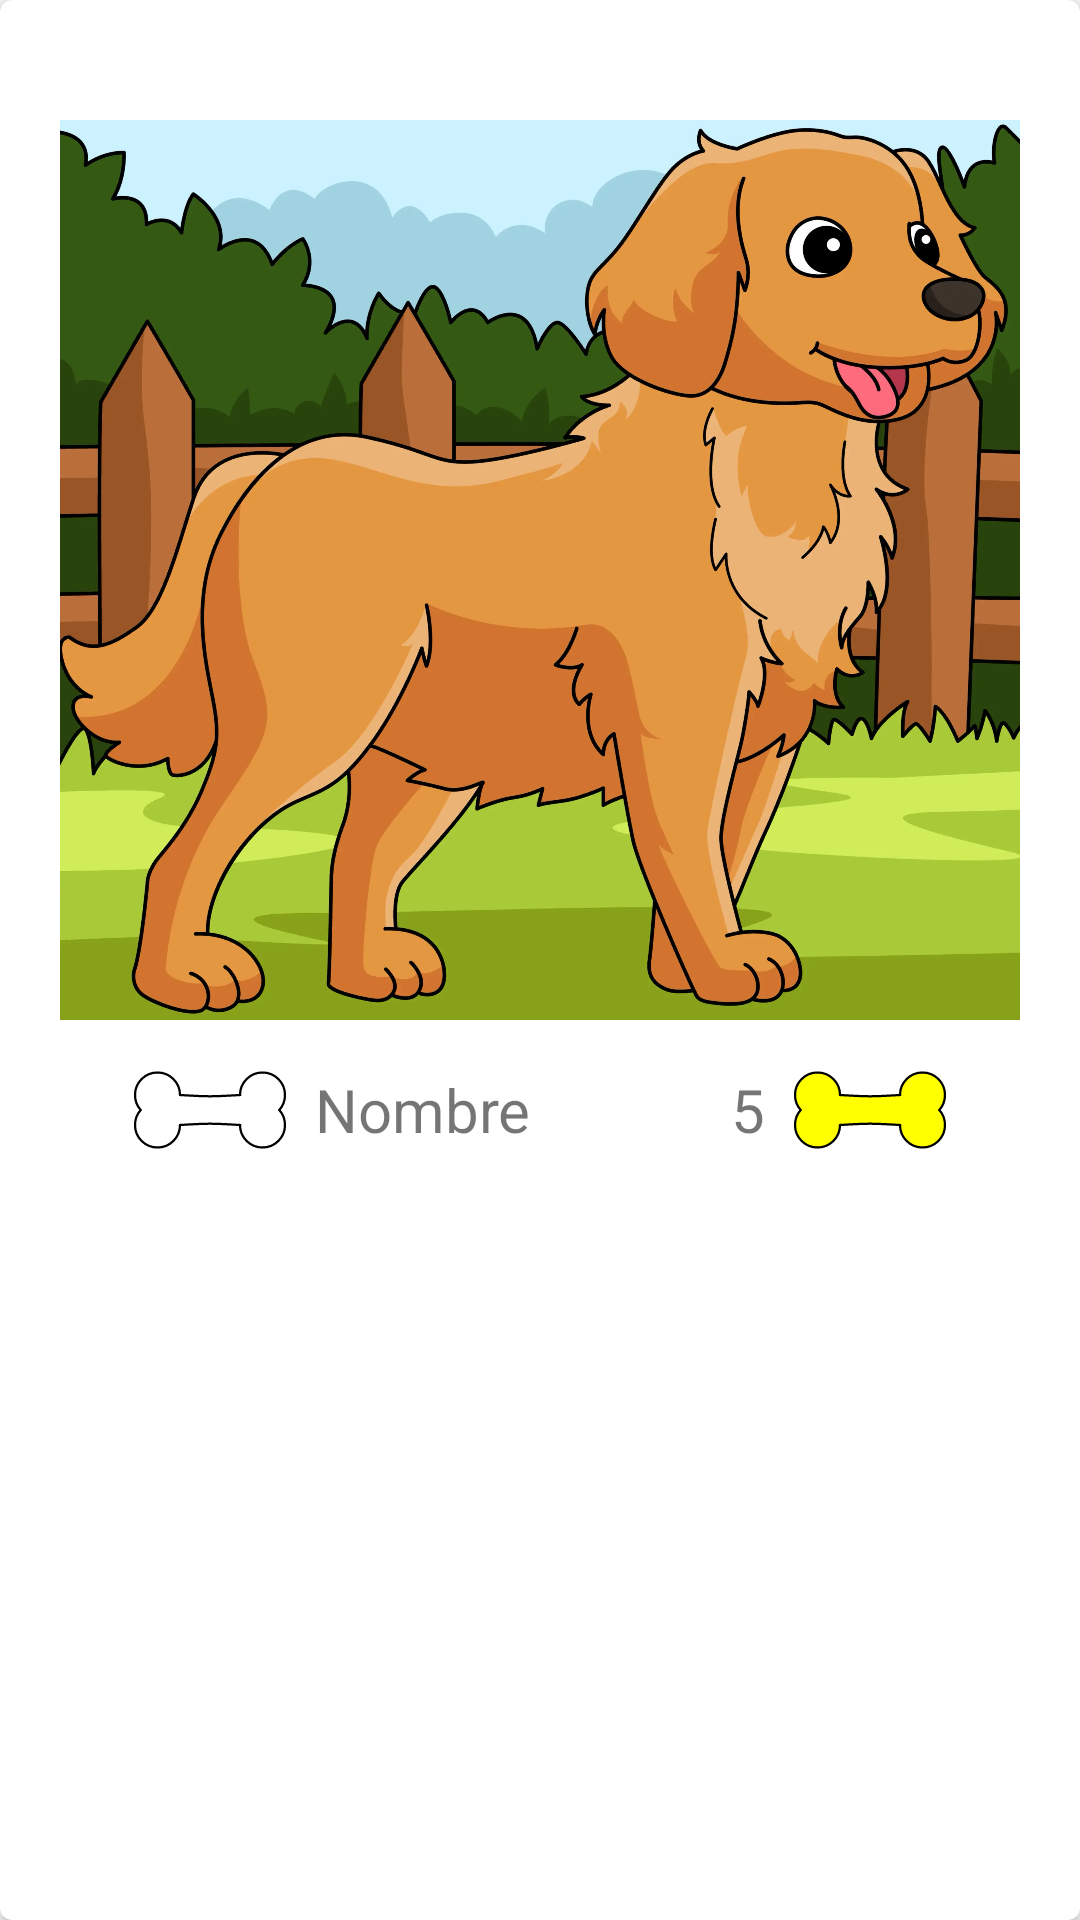

Icon bounding boxes for this 1080*1920 phone screenshot, format (x1, y1, x2, y2):
bone: (134, 1071, 286, 1149), (794, 1071, 946, 1149)
